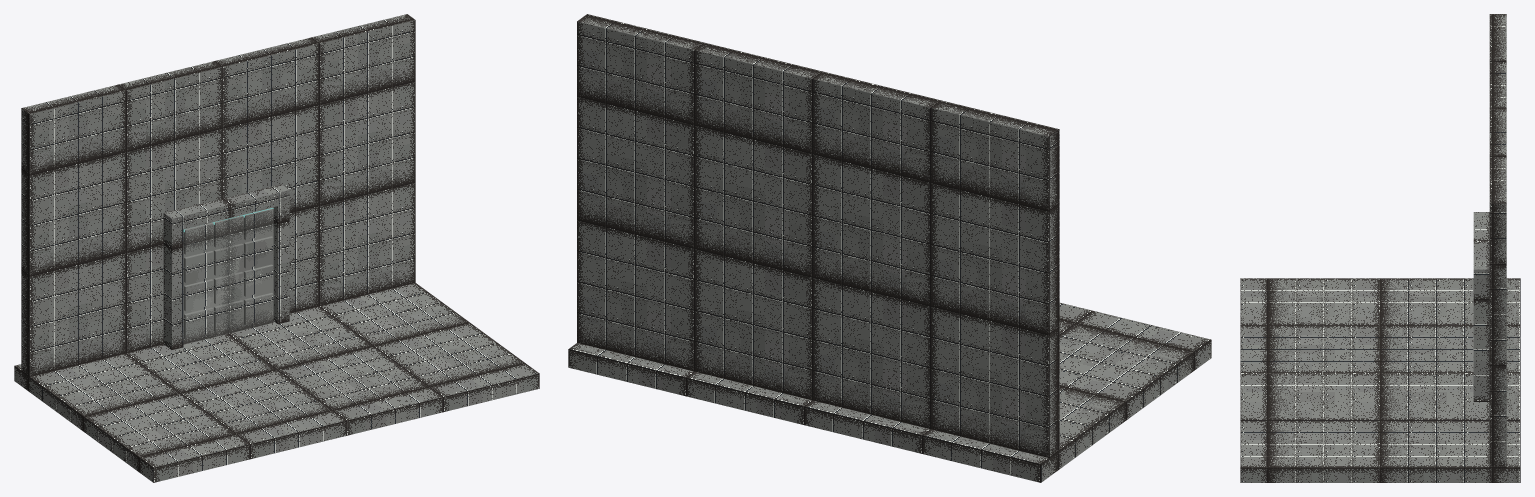
File: gate_break.glb
3 renders of one model, left to right at view 1: azimuth 30°, elevation 25°; view 2: azimuth 150°, elevation 25°; view 3: azimuth 270°, elevation 25°, orthographic. The views are drawn at different scales.
Parts seen in each view (by area): view 1: gate_break; view 2: gate_break; view 3: gate_break.
Boxes of the visible parts, x1=… form: gate_break: x1=14, y1=14, x2=539, y2=482; gate_break: x1=568, y1=14, x2=1211, y2=482; gate_break: x1=1240, y1=14, x2=1520, y2=482.
Size of the model in its own units: 8 by 5.5 by 5.
3 materials, 2 textured.
